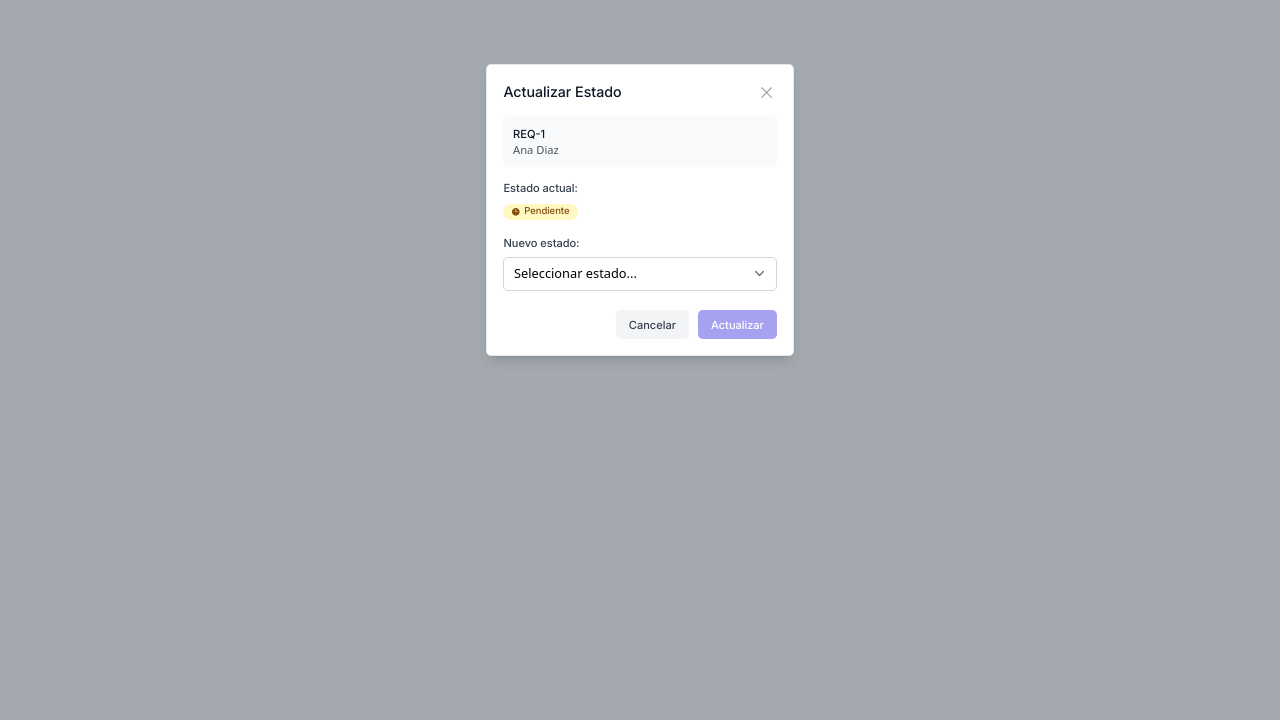
StatusUpdateModal.vue › disables update button until status changes
Expected: the button "Actualizar" is disabled, x1=698 y1=310 x2=777 y2=339
Select "Pendiente" in the dropdown at [640, 274], box x1=503 y1=257 x2=777 y2=291
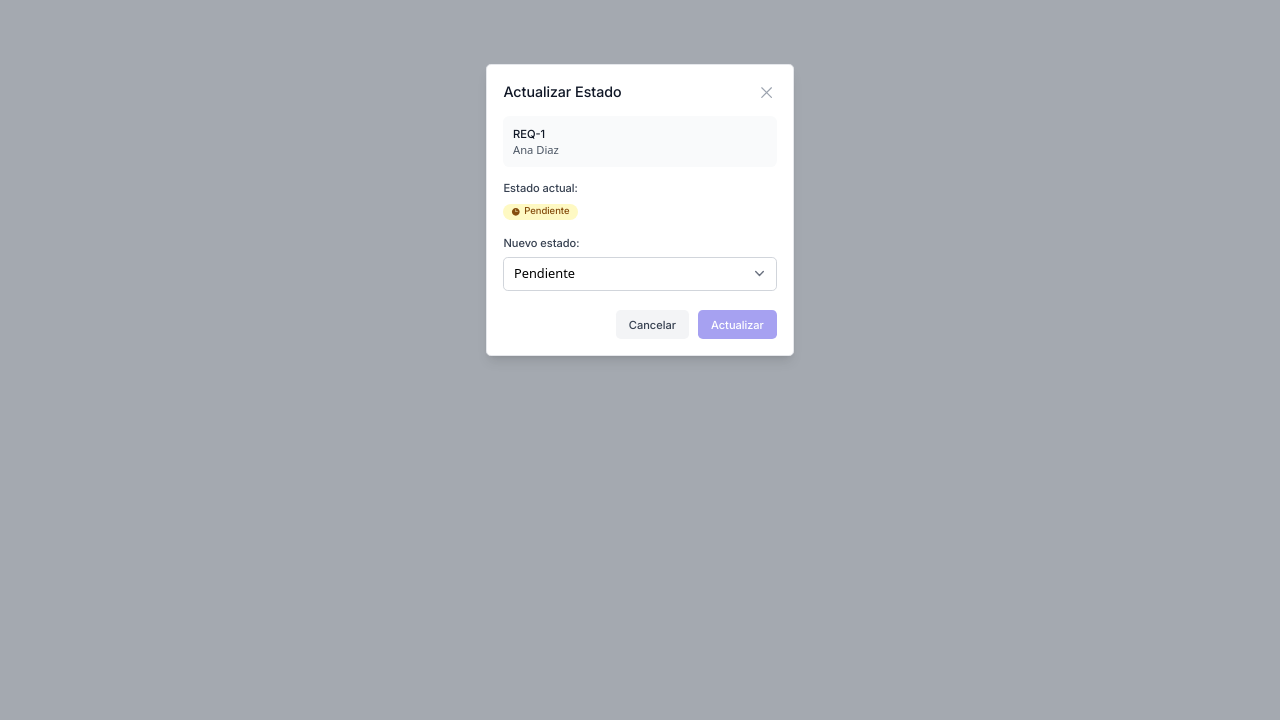
Expected: the button "Actualizar" is disabled, x1=698 y1=310 x2=777 y2=339
Select "Respondida" in the dropdown at [640, 274], box x1=503 y1=257 x2=777 y2=291
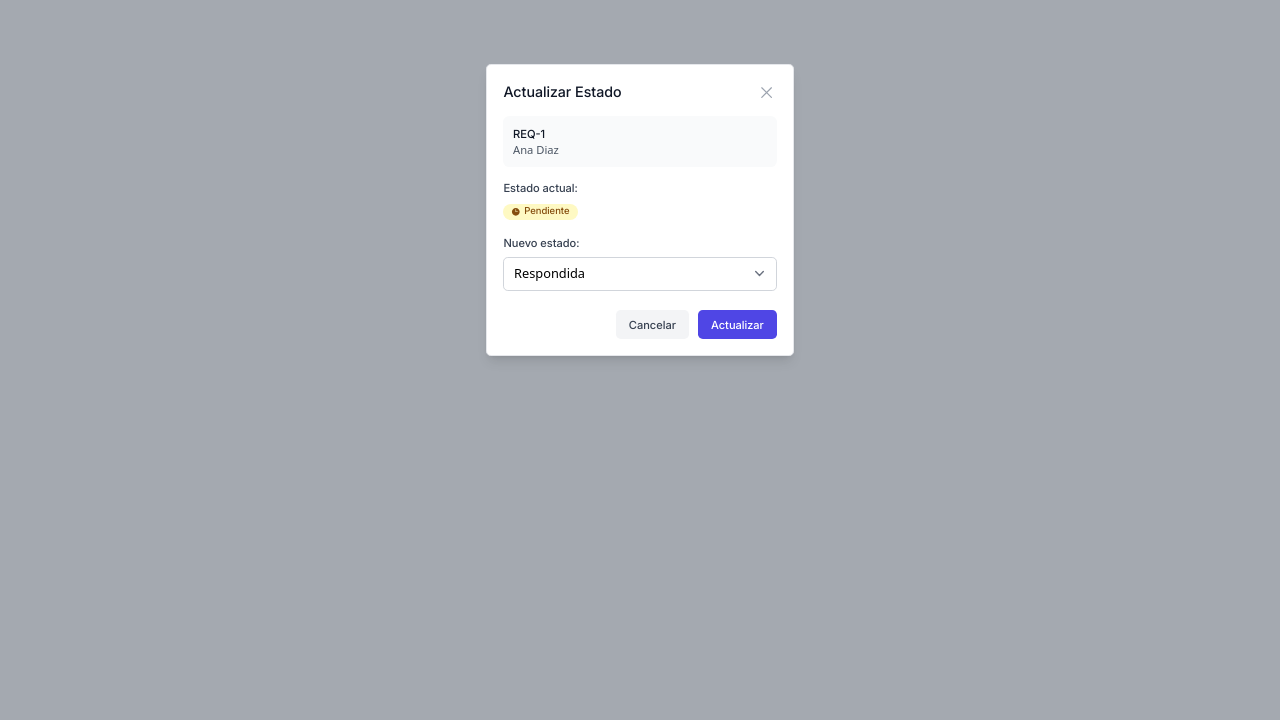
Now the button "Actualizar" is enabled, box x1=698 y1=310 x2=777 y2=339
